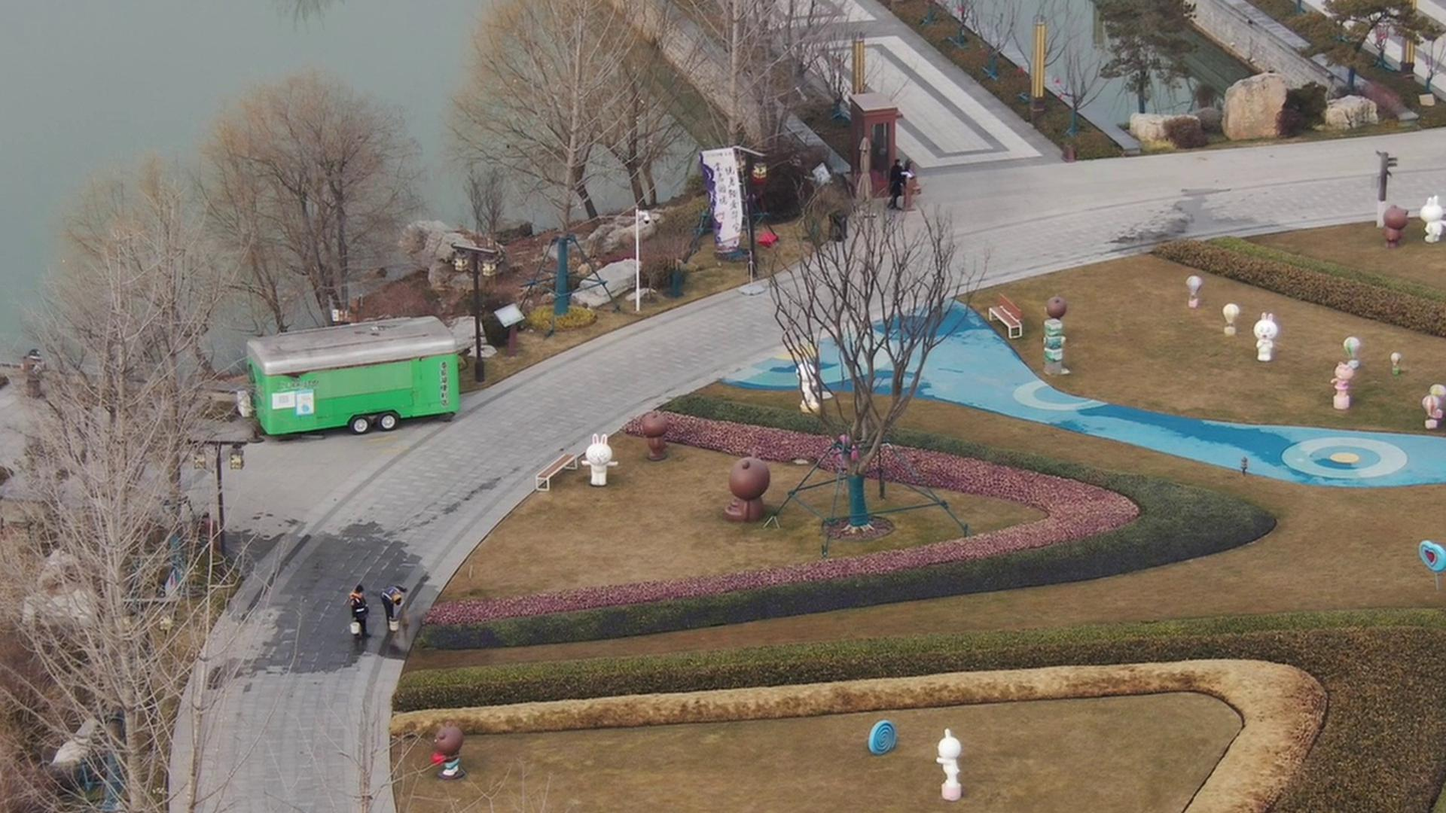human: (335, 575, 371, 638), (368, 577, 407, 626), (883, 147, 910, 206)
